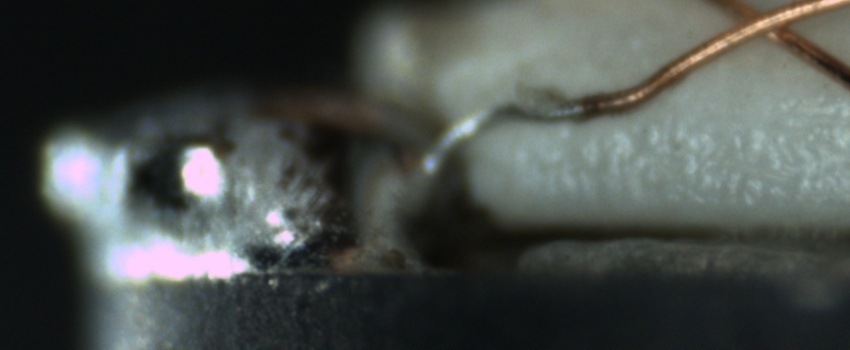CL: (717, 2, 815, 53)
DL: (766, 102, 849, 146)
TS: (436, 99, 584, 156)
TTCW: (409, 70, 658, 185)
